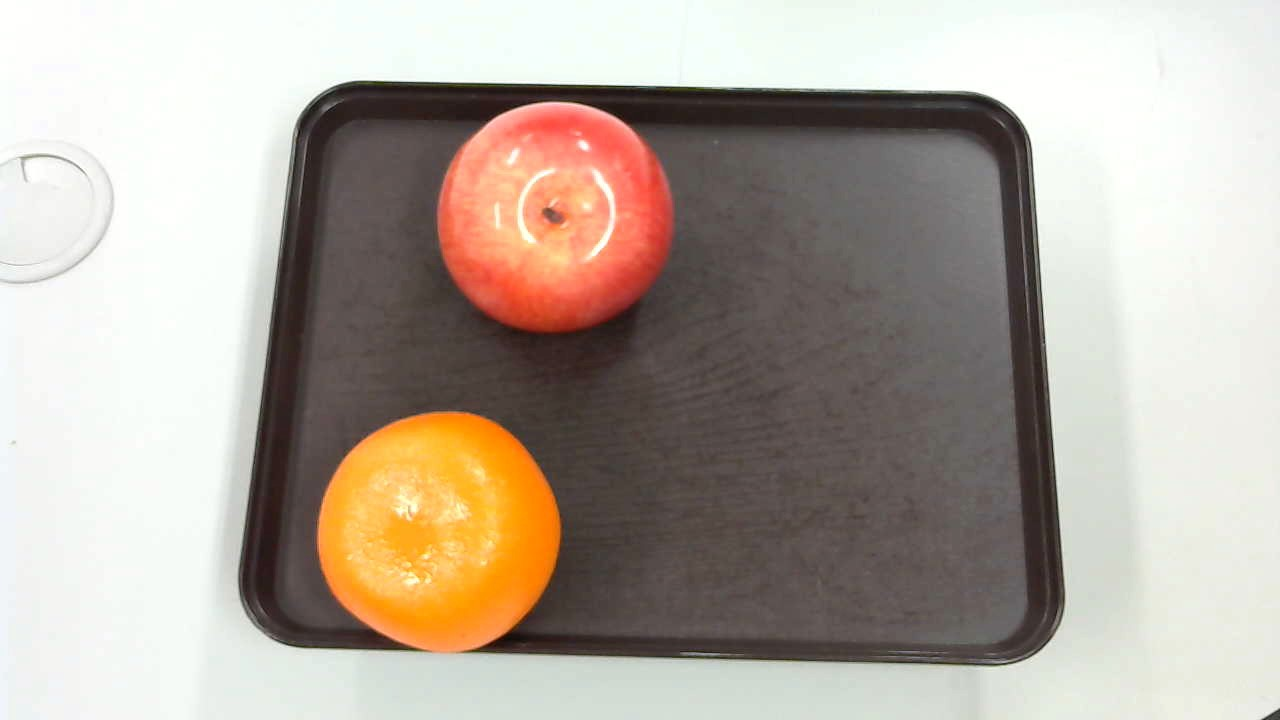orange: (309, 411, 566, 656)
red apple: (435, 103, 674, 335)
